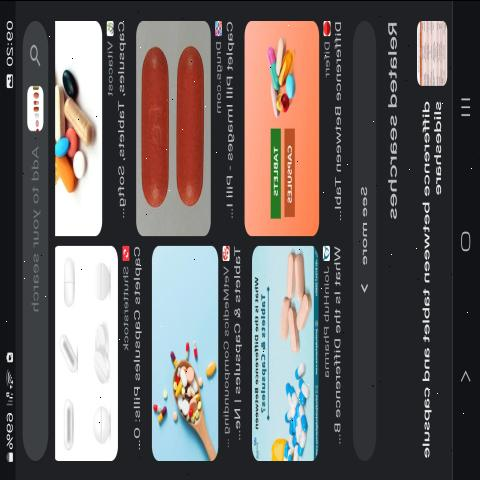Pill: (168, 40, 210, 216), (138, 27, 172, 233), (86, 311, 116, 386), (61, 389, 82, 480), (86, 403, 118, 456), (60, 238, 80, 312), (88, 255, 118, 303), (281, 248, 301, 306), (56, 334, 82, 372), (287, 256, 309, 300), (287, 300, 302, 360), (73, 152, 94, 184)
